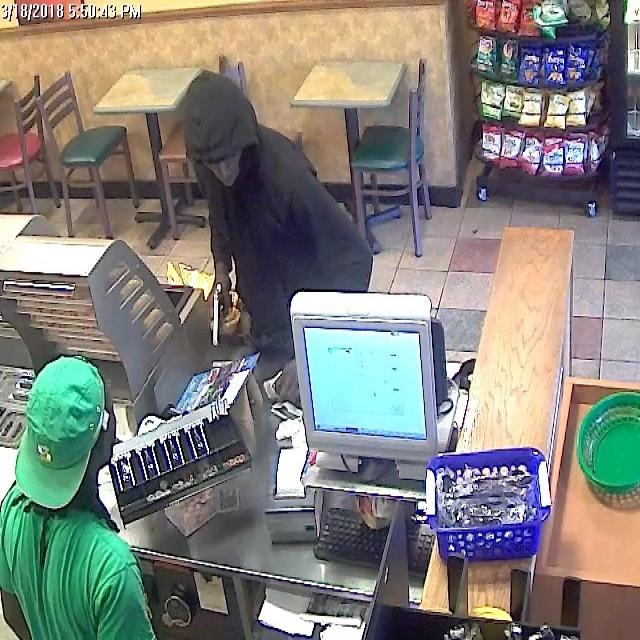gun: (201, 280, 244, 347)
